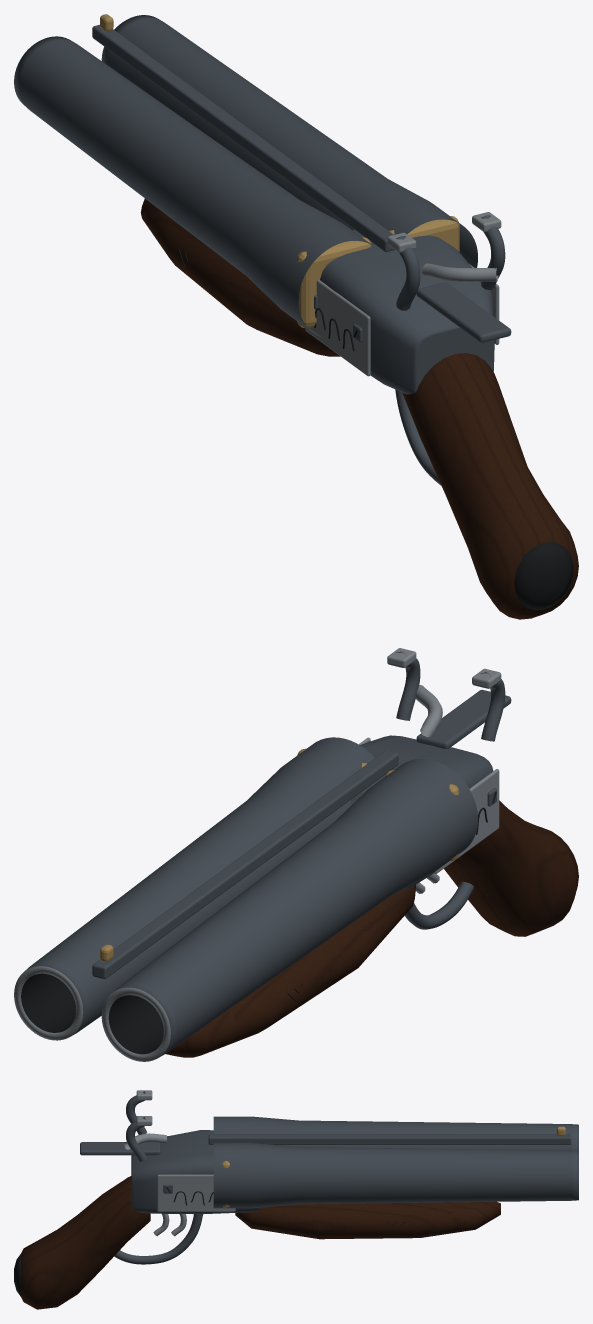
The model's file is vesper.glb.
3 renders of one model, top to bottom at view 1: azimuth 30°, elevation 25°; view 2: azimuth 150°, elevation 25°; view 3: azimuth 270°, elevation 25°, orthographic. The views are drawn at different scales.
Parts seen in each view (by area): view 1: Left barrel, Carved birds-head grip, Right barrel, vesper_body_Oil-black gunmetal, Raised sight rib, Carved fore-end, vesper_body_Polished steel edges, vesper_body_Bore and engraving, vesper_hinge_Aged brass, vesper_hammers_Oil-black gunmetal, vesper_hammers_Polished steel edges; view 2: Left barrel, Right barrel, Carved birds-head grip, Carved fore-end, Raised sight rib, vesper_body_Oil-black gunmetal, vesper_body_Polished steel edges, vesper_hammers_Oil-black gunmetal, vesper_hammers_Polished steel edges; view 3: Right barrel, Carved birds-head grip, Carved fore-end, vesper_body_Oil-black gunmetal, Left barrel, Raised sight rib, vesper_body_Polished steel edges, vesper_hammers_Oil-black gunmetal, vesper_body_Bore and engraving, vesper_hammers_Polished steel edges.
Part boxes in pixels (x1,y1,x2,y2): Left barrel: [14, 36, 378, 337]; Carved birds-head grip: [402, 353, 578, 619]; Right barrel: [101, 15, 477, 267]; vesper_body_Oil-black gunmetal: [314, 230, 511, 485]; Raised sight rib: [92, 24, 394, 251]; Carved fore-end: [140, 198, 340, 356]; vesper_body_Polished steel edges: [305, 263, 499, 376]; vesper_body_Bore and engraving: [314, 308, 573, 610]; vesper_hinge_Aged brass: [100, 14, 459, 328]; vesper_hammers_Oil-black gunmetal: [396, 215, 505, 310]; vesper_hammers_Polished steel edges: [387, 212, 501, 252]; Left barrel: [101, 758, 477, 1061]; Right barrel: [14, 737, 374, 1040]; Carved birds-head grip: [444, 800, 578, 936]; Carved fore-end: [165, 885, 415, 1057]; Raised sight rib: [92, 750, 398, 979]; vesper_body_Oil-black gunmetal: [350, 689, 511, 929]; vesper_body_Polished steel edges: [359, 685, 499, 893]; vesper_hammers_Oil-black gunmetal: [396, 651, 505, 741]; vesper_hammers_Polished steel edges: [387, 648, 501, 688]; Right barrel: [213, 1143, 578, 1208]; Carved birds-head grip: [21, 1176, 150, 1309]; Carved fore-end: [235, 1201, 500, 1239]; vesper_body_Oil-black gunmetal: [80, 1130, 260, 1264]; Left barrel: [213, 1116, 578, 1150]; Raised sight rib: [208, 1134, 571, 1144]; vesper_body_Polished steel edges: [124, 1133, 235, 1236]; vesper_hammers_Oil-black gunmetal: [126, 1091, 146, 1161]; vesper_body_Bore and engraving: [14, 1187, 213, 1296]; vesper_hammers_Polished steel edges: [136, 1090, 152, 1125].
Bounding box in the file's own units: 0.254 × 0.4451 × 1.12.
5 materials, 1 textured.
